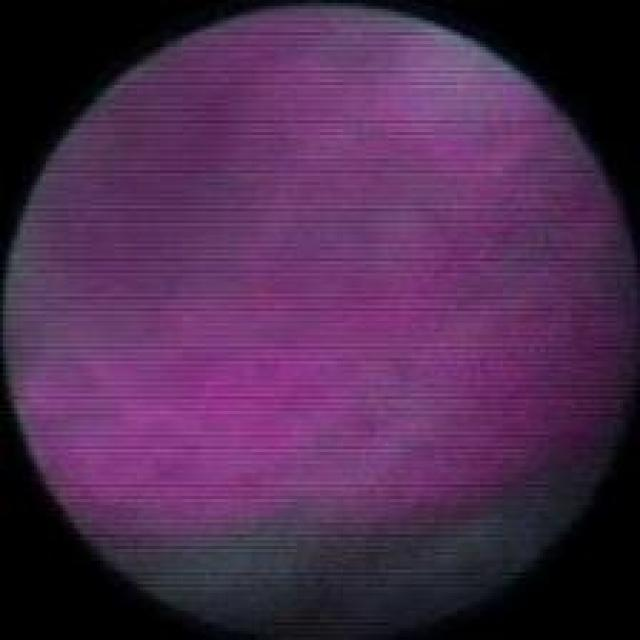blur: (20, 20, 623, 595)
color misalignment: (20, 23, 628, 622)
